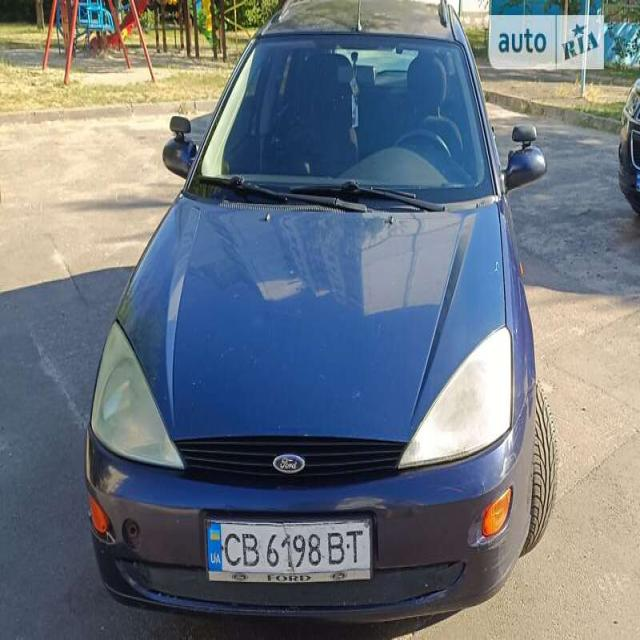plate: (200, 507, 376, 590)
